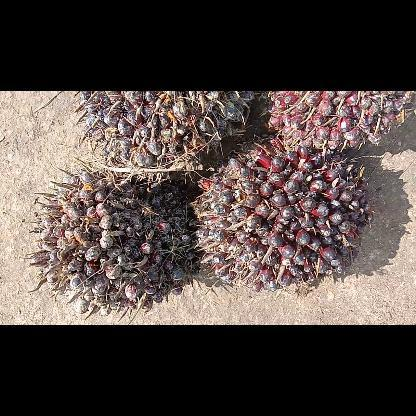Kurang masak: (188, 148, 375, 290), (34, 166, 198, 312), (77, 91, 255, 167), (259, 92, 415, 148)
